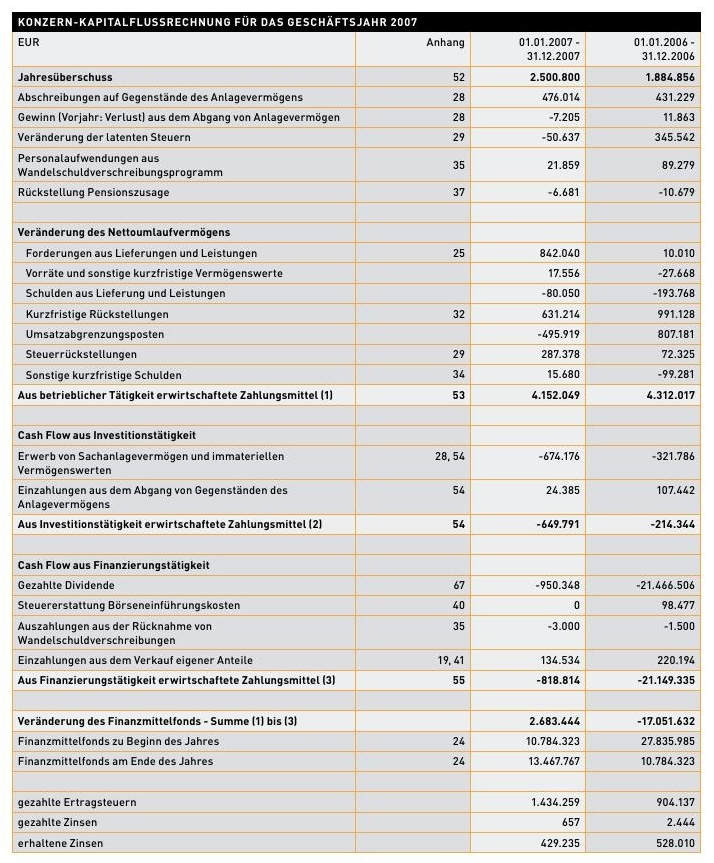table: (0, 0, 714, 863)
